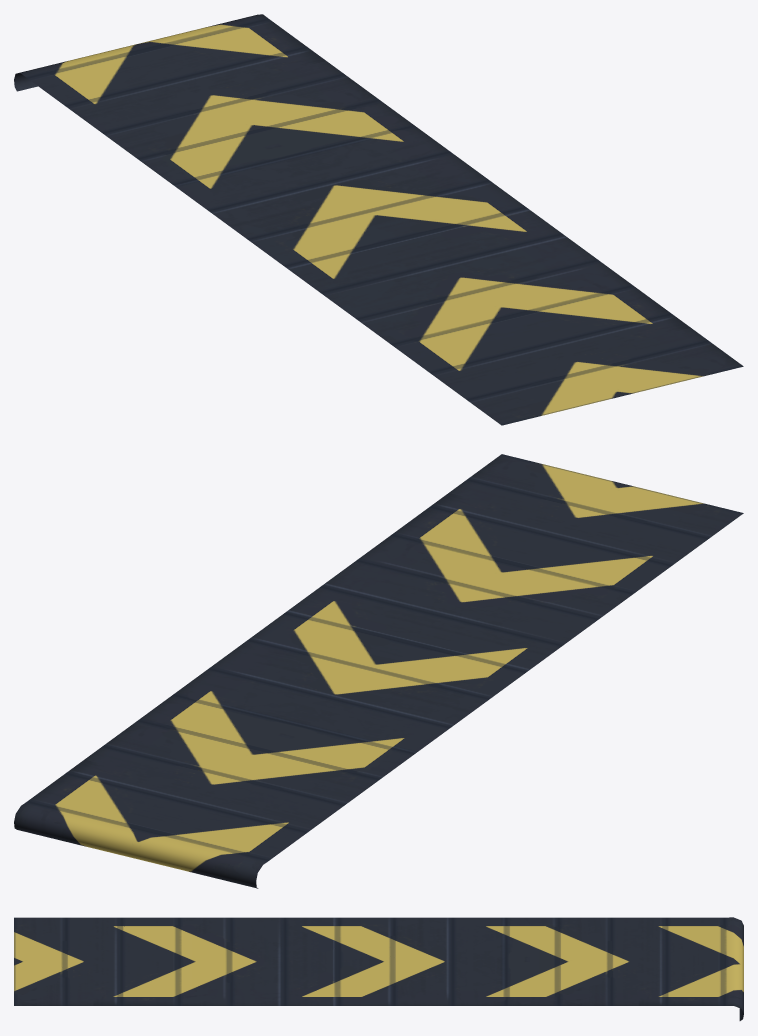
The model's file is TrashMan Conveyor Belt 3.fbx.
3 views of the same model, one above another, from view 1: azimuth 30°, elevation 25°; view 2: azimuth 150°, elevation 25°; view 3: azimuth 270°, elevation 25° (orthographic). The views are drawn at different scales.
Visible parts, largest first — view 1: Trash Man Conveyor Belt 3; view 2: Trash Man Conveyor Belt 3; view 3: Trash Man Conveyor Belt 3.
Boxes of the visible parts, x1=… form: Trash Man Conveyor Belt 3: x1=14, y1=14, x2=743, y2=425; Trash Man Conveyor Belt 3: x1=14, y1=454, x2=743, y2=888; Trash Man Conveyor Belt 3: x1=14, y1=917, x2=743, y2=1020.
Size of the model in its own units: 963 by 80.06 by 3361.
